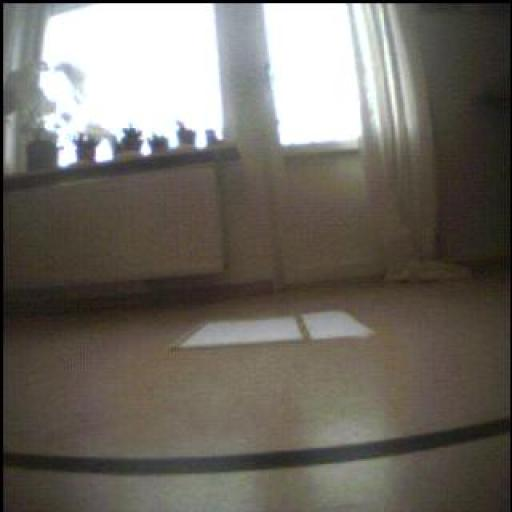Pad: (173, 311, 384, 349)
